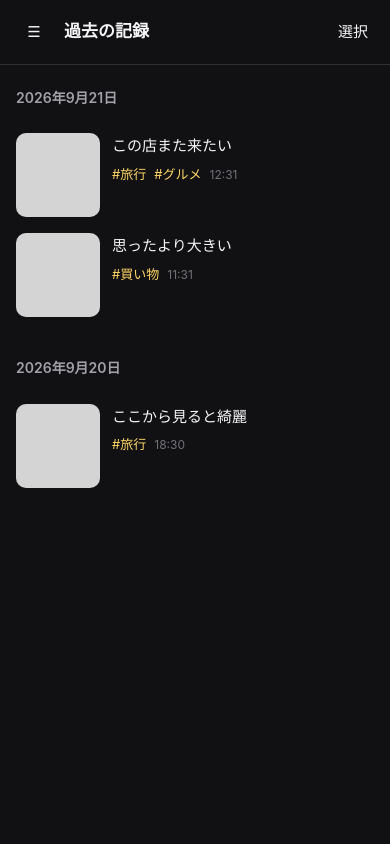
複数選択して削除 › 削除前にシンプルな確認を出す
expect the text "この店また来たい" is shown: met, box [112,136,232,155]
Click the button "選択" at point(353, 32), box [328,10,378,54]
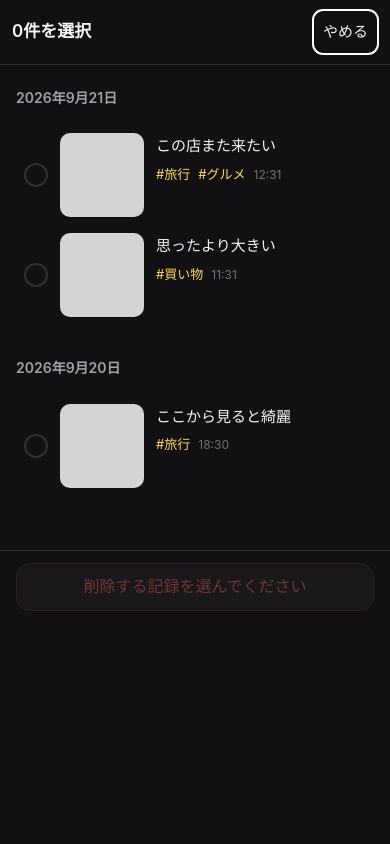
Click the checkbox labelled "この店また来たい #旅行#グルメ12:31" at point(102, 175), box [16,125,374,225]
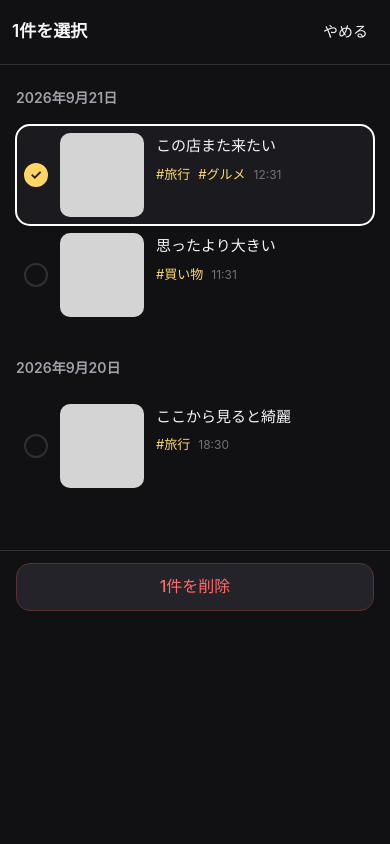
Click the checkbox labelled "思ったより大きい #買い物11:31" at point(195, 275), box [16,225,374,325]
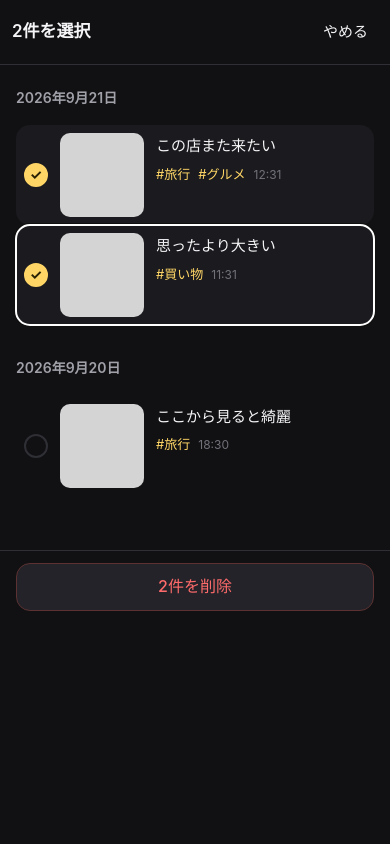
Click the button "2件を削除" at point(195, 587), box [16,563,374,611]
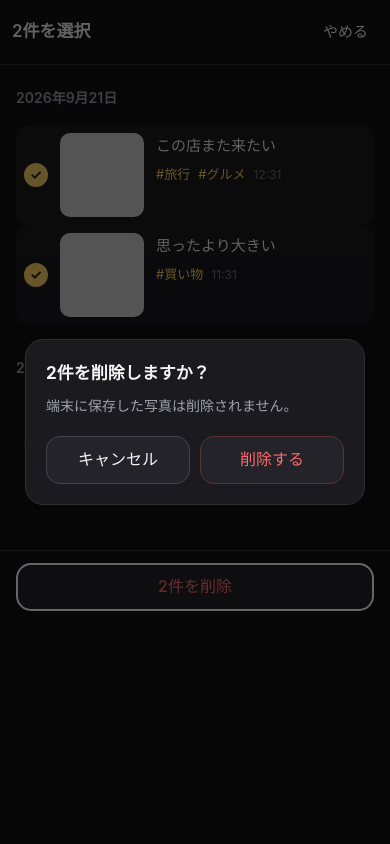
expect the heading "2件を削除しますか？" is shown: met, box [46,363,210,383]
expect the text "端末に保存した写真は削除されません。" is shown: met, box [46,397,298,414]
expect the button "削除する" is enabled: met, box [200,436,344,484]
